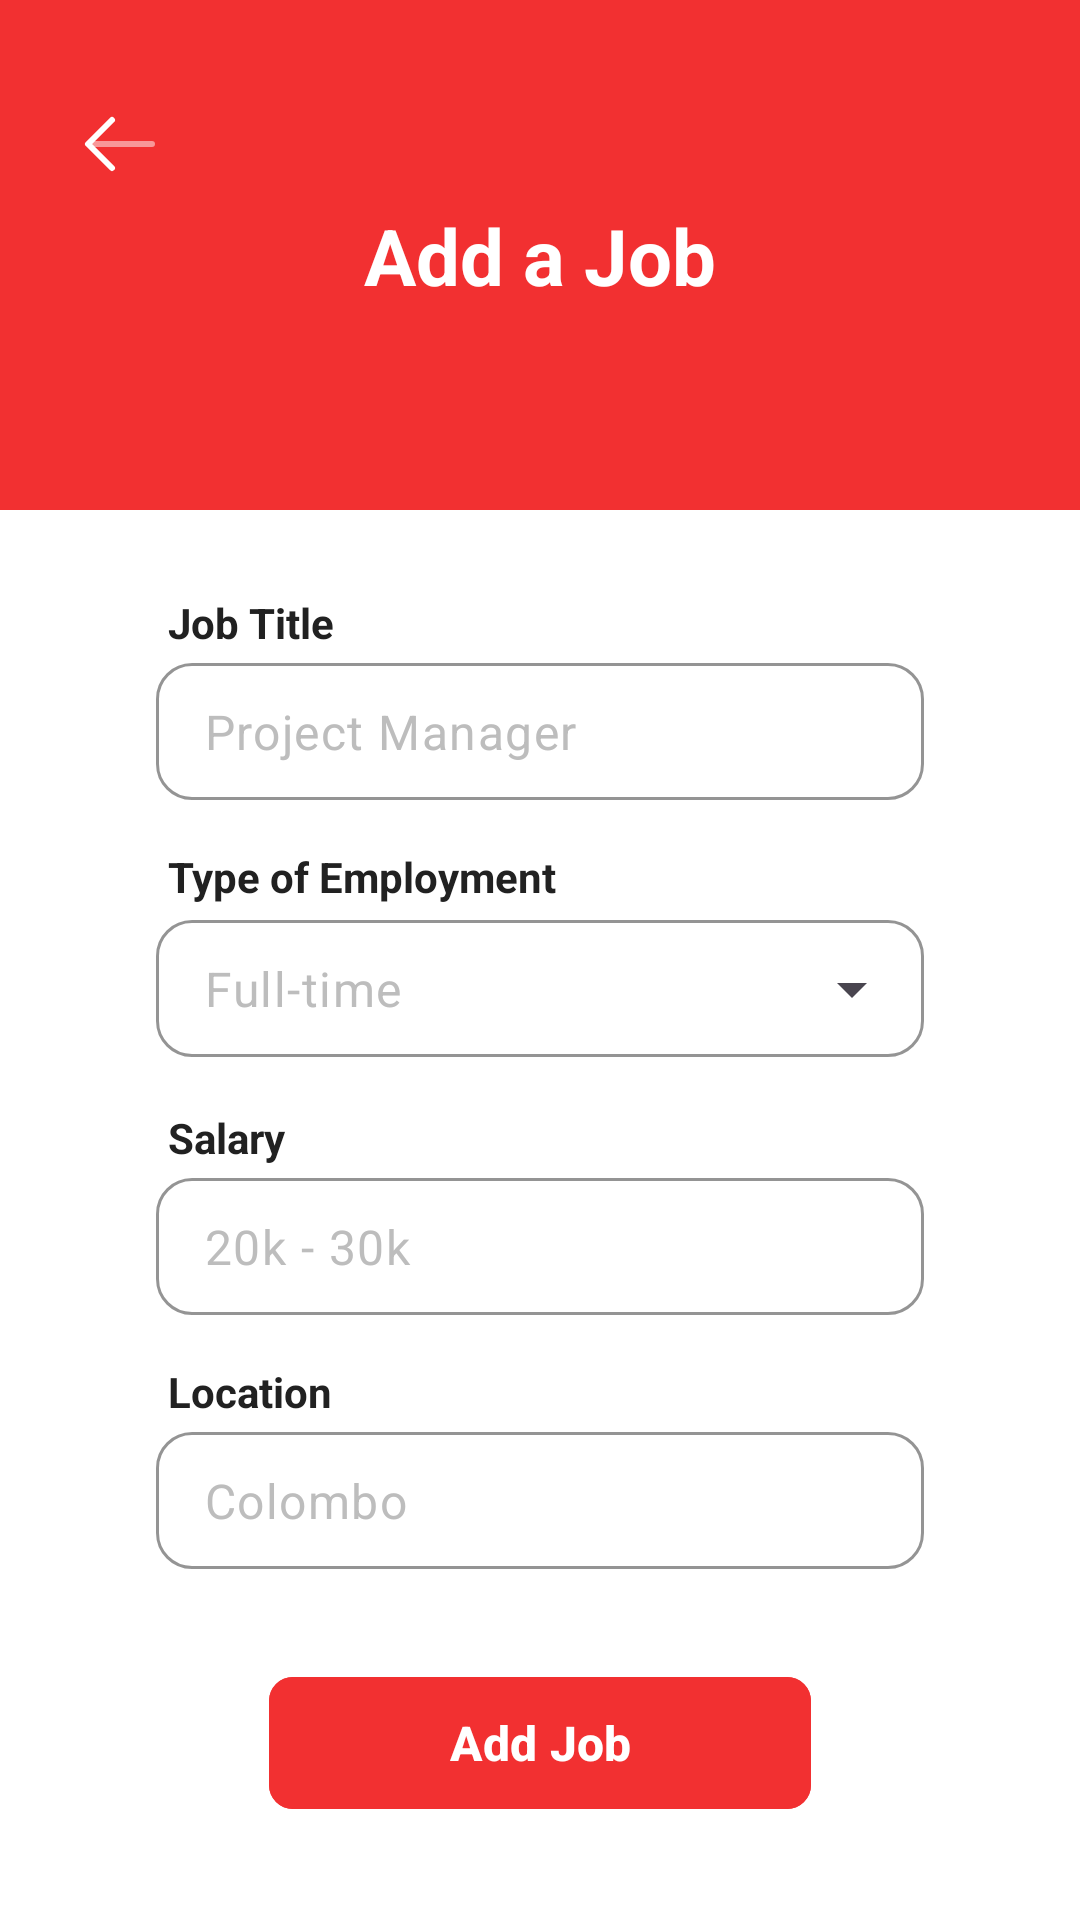

Named icons in this screenshot (1080 x 1920) and their centers, [x,y]:
Go Back: [120,143]
